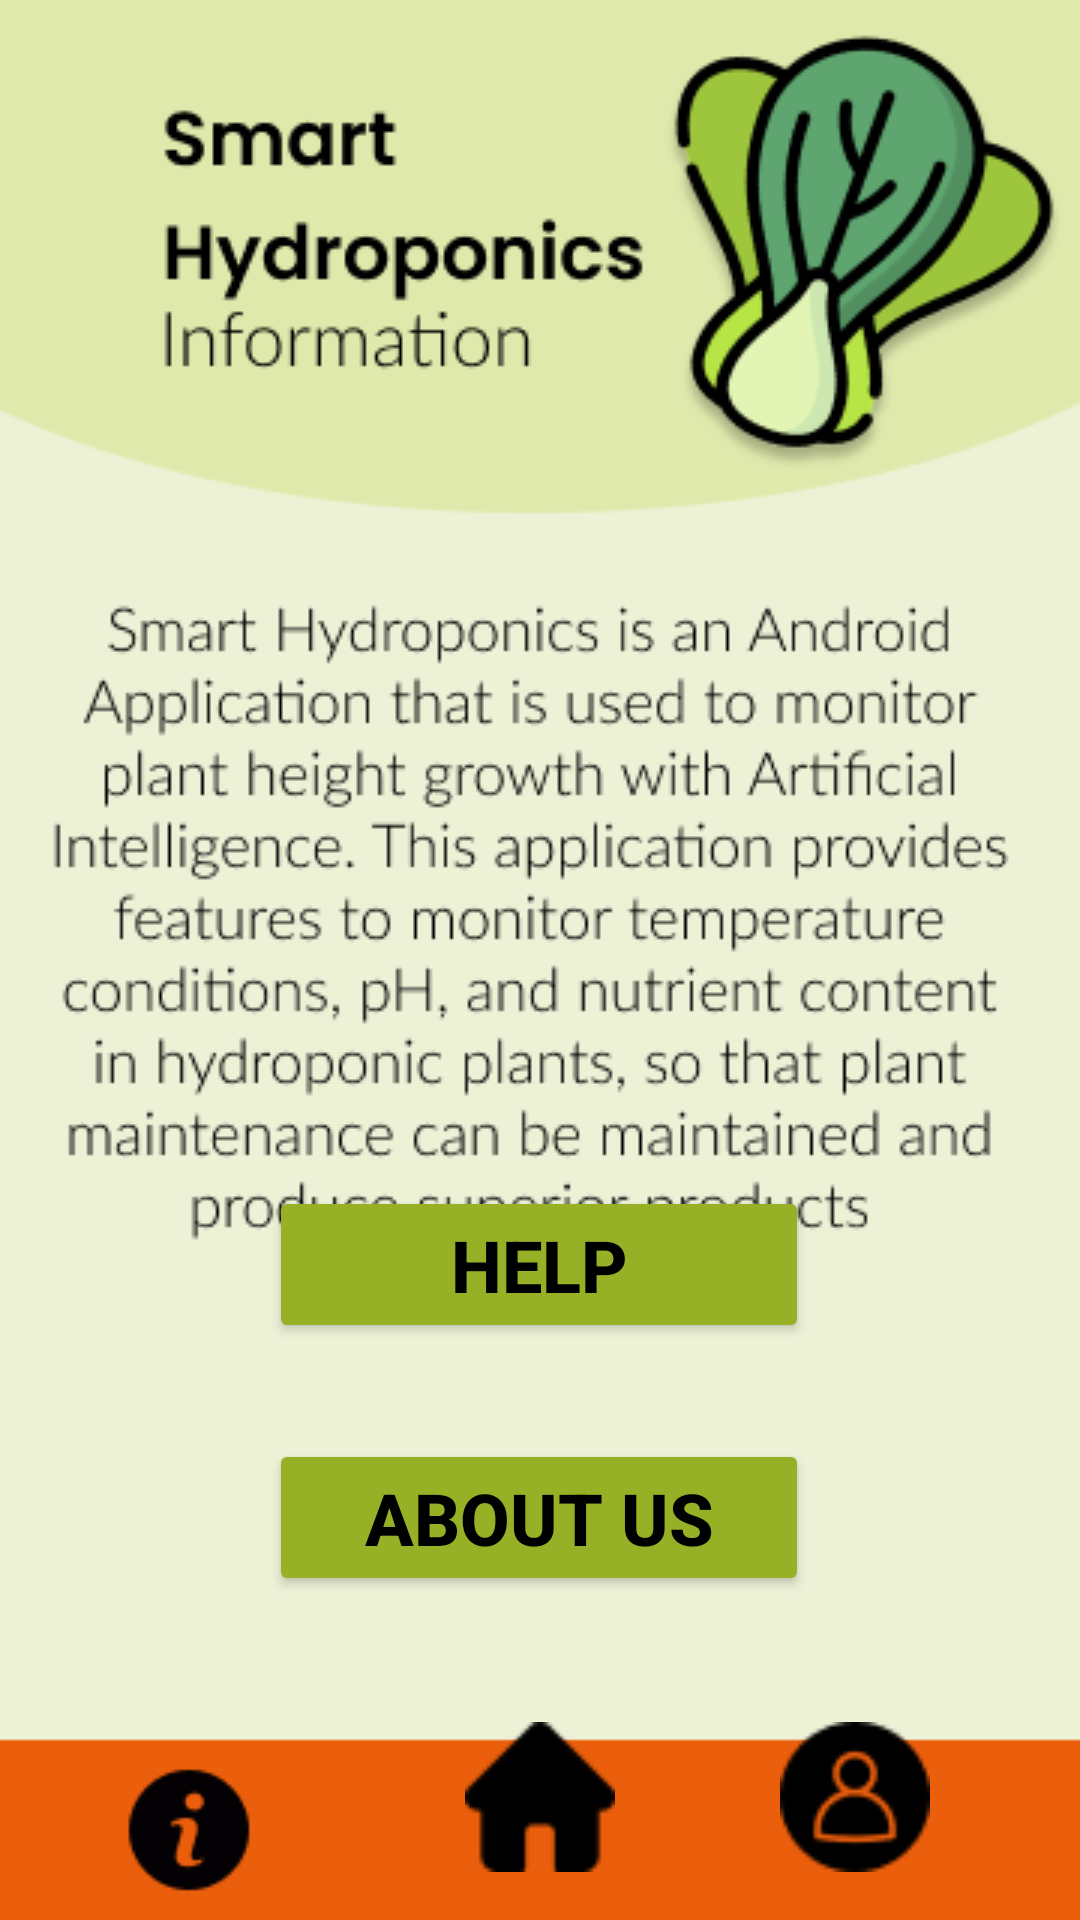

Icons on this 1080x1920 Android screen, each with its box as [x1,y1,x2,y2]:
home: [465,1722,615,1872]
profile: [780,1722,930,1872]
